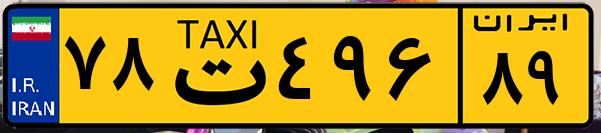4: (270, 28, 330, 110)
6: (385, 28, 445, 110)
7: (57, 26, 110, 100)
8: (475, 38, 525, 113), (110, 28, 158, 98)
9: (330, 28, 385, 110), (525, 38, 570, 115)
ت: (158, 12, 270, 120)
